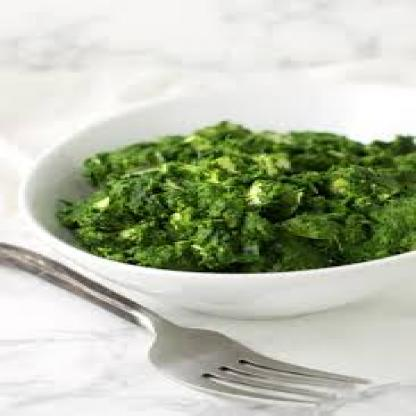palak_paneer: (58, 120, 416, 273)
